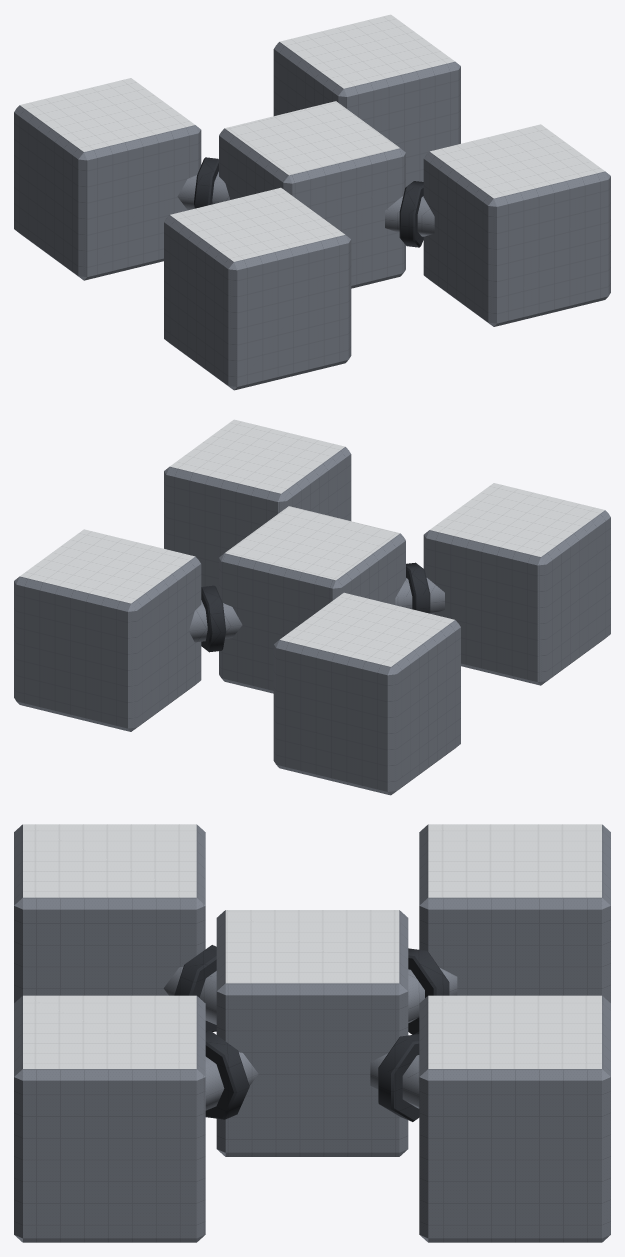
File: R4C_STRUT_CROSS_LOD1.glb
The picture shows the model from 3 angles, top to bottom: view 1: azimuth 30°, elevation 25°; view 2: azimuth 150°, elevation 25°; view 3: azimuth 270°, elevation 25°; orthographic projection. The views are drawn at different scales.
Parts seen in each view (by area): view 1: R4C_STRUT_CROSS_LOD1; view 2: R4C_STRUT_CROSS_LOD1; view 3: R4C_STRUT_CROSS_LOD1.
Part boxes in pixels (box(x1,y1,x2,y2)): R4C_STRUT_CROSS_LOD1: box(14, 14, 610, 390); R4C_STRUT_CROSS_LOD1: box(14, 419, 610, 795); R4C_STRUT_CROSS_LOD1: box(14, 824, 610, 1242).
Size of the model in its own units: 1.62 by 0.52 by 1.62.
Materials: 3 (3 with a texture image).
